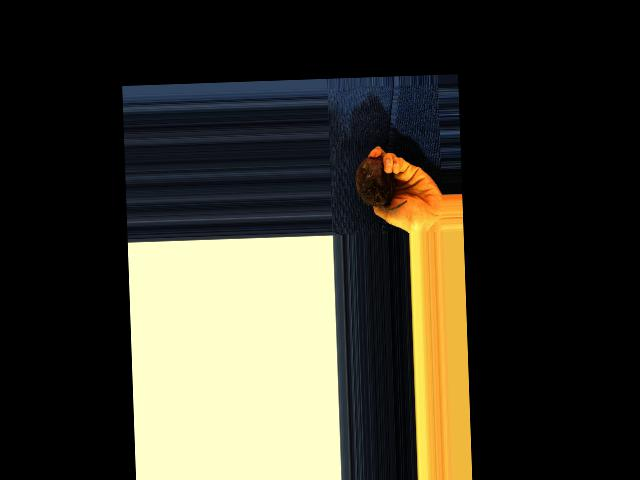beet: (355, 155, 408, 212)
